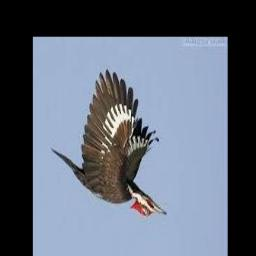Woodpecker: (51, 70, 166, 217)
